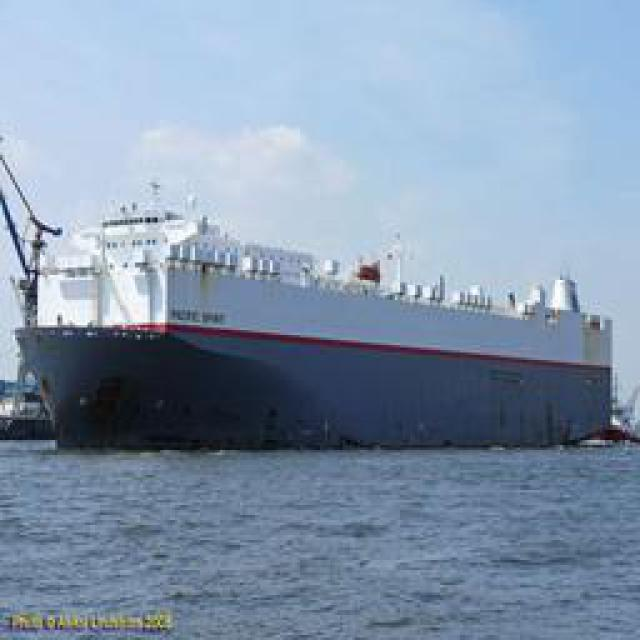Ship: (10, 156, 623, 454)
